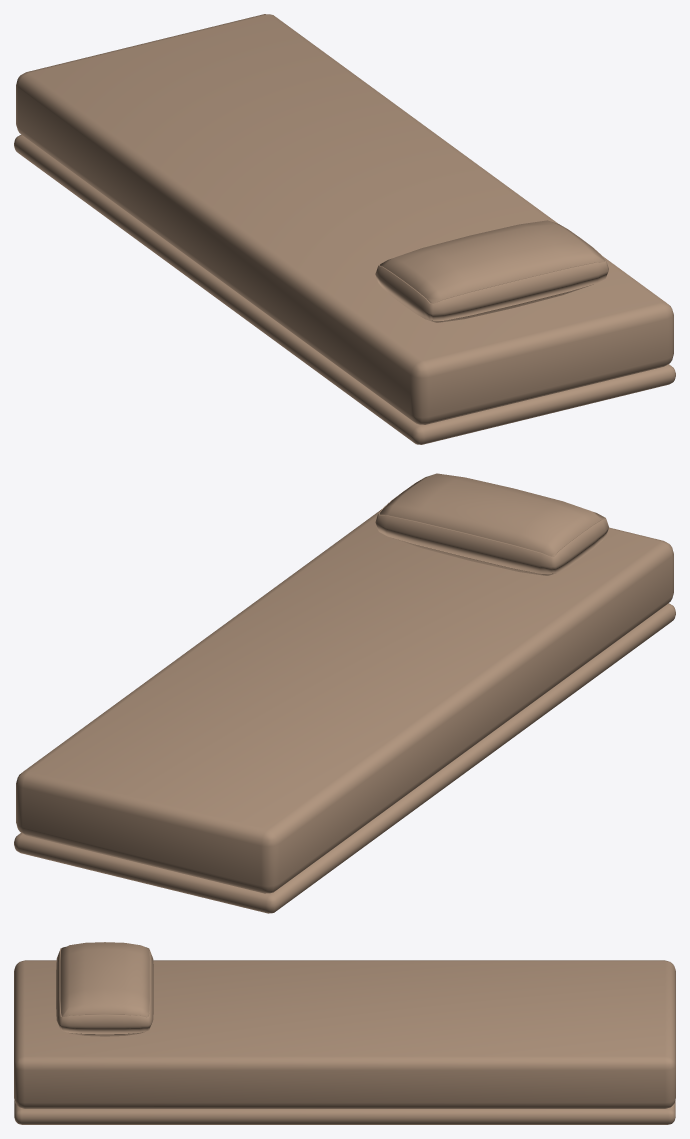
File: sofa.fbx
3 renders of one model, top to bottom at view 1: azimuth 30°, elevation 25°; view 2: azimuth 150°, elevation 25°; view 3: azimuth 270°, elevation 25°, orthographic. The views are drawn at different scales.
Visible parts, largest first — view 1: Plane.006; view 2: Plane.006; view 3: Plane.006.
Boxes of the visible parts, x1,y1,x2,y2 form: Plane.006: [14, 14, 675, 444]; Plane.006: [14, 473, 675, 913]; Plane.006: [14, 942, 675, 1124].
Bounding box in the file's own units: 44.47 × 21.34 × 119.
